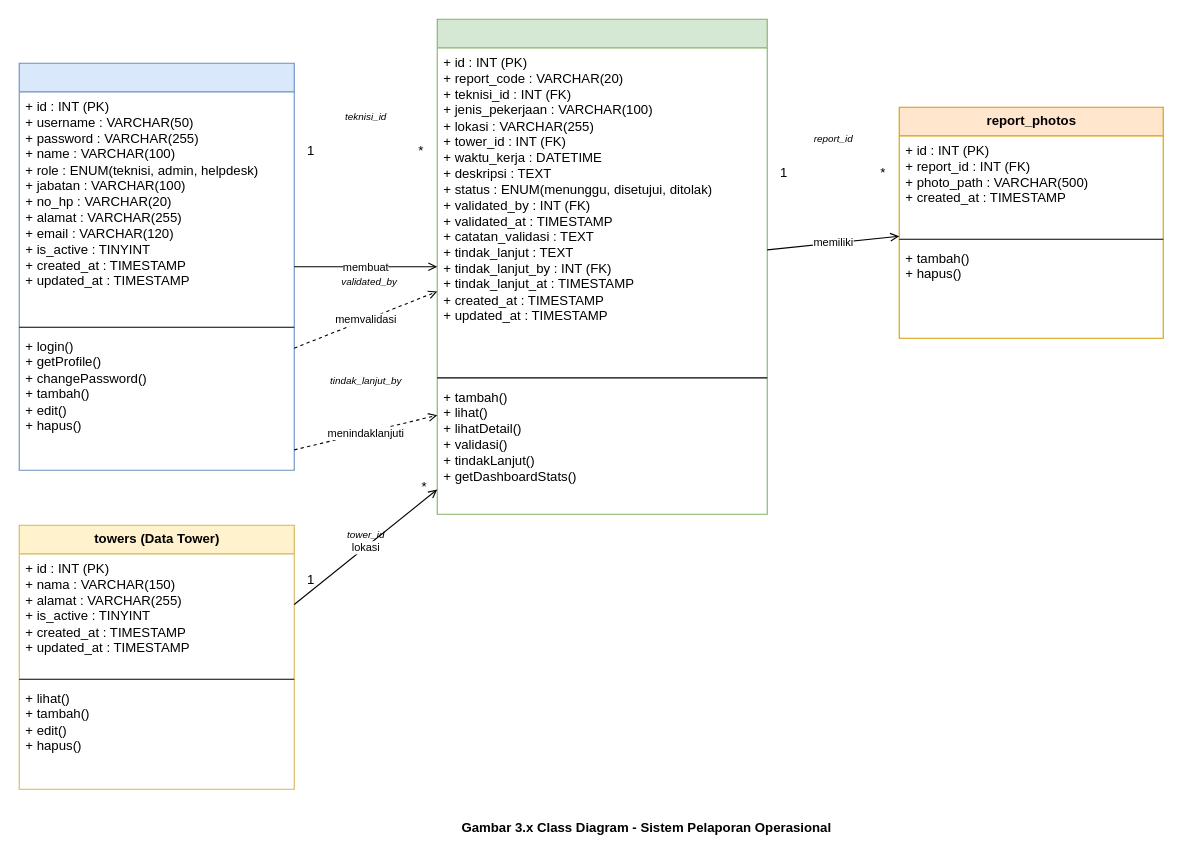
Some shapes in this 1183 by 864 pixel diagram are drawn without their labels. The shapes that lost their labels are listed below. From the top down, each one's box as (x1, y1, x2, y2) in pixels, then its label:
(18, 62, 294, 470): users (Data Pegawai)
(436, 18, 767, 514): reports
